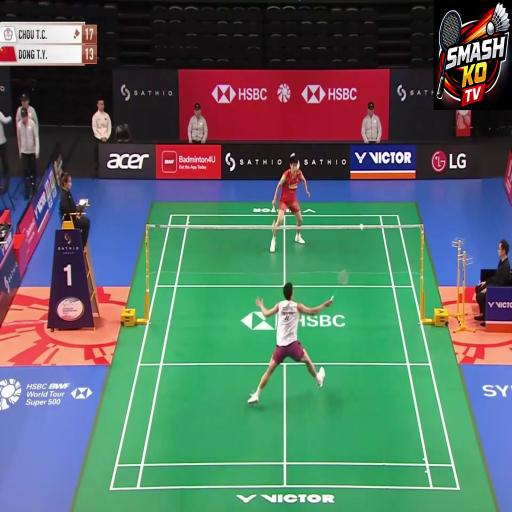player: (252, 266, 327, 432), (262, 130, 318, 262)
